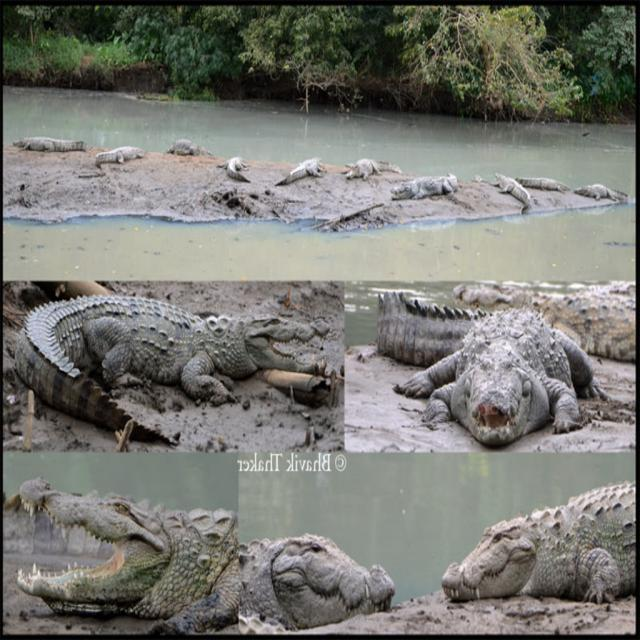crocodile: (0, 289, 345, 451), (363, 281, 619, 458)
